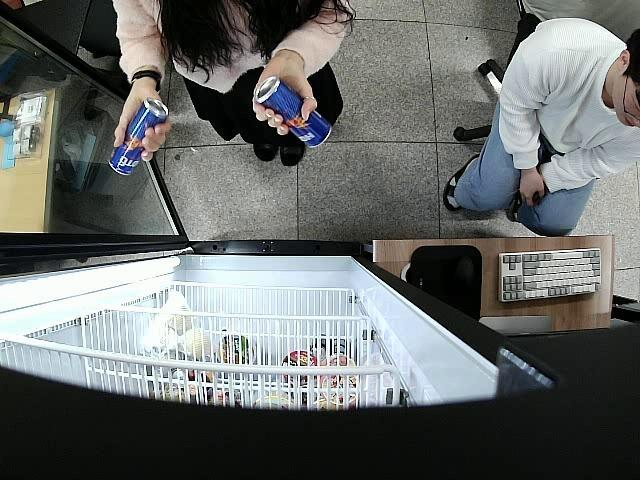16_hot6: (254, 78, 334, 148), (108, 96, 169, 176)
